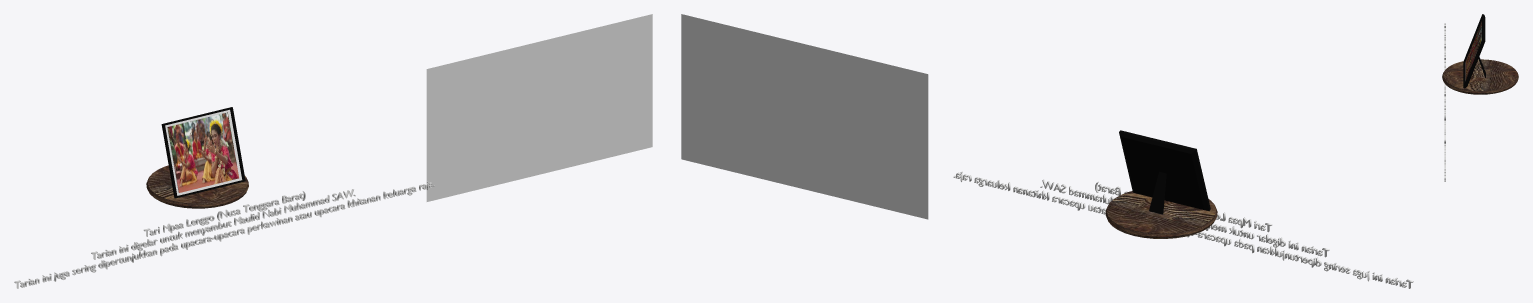
The model's file is 20. Tari Mpa Lenggo (NTB).fbx.
3 renders of one model, left to right at view 1: azimuth 30°, elevation 25°; view 2: azimuth 150°, elevation 25°; view 3: azimuth 270°, elevation 25°, orthographic. The views are drawn at different scales.
Parts seen in each view (by area): view 1: Plane, Cube.025, Text; view 2: Plane, Cube.025, Text; view 3: Cube.025, Text.
Part boxes in pixels (<box>): Plane: <box>426,14,652,201</box>; Cube.025: <box>146,107,248,208</box>; Text: <box>14,181,435,288</box>; Plane: <box>681,14,928,219</box>; Cube.025: <box>1105,130,1217,238</box>; Text: <box>953,171,1413,288</box>; Cube.025: <box>1442,14,1518,94</box>; Text: <box>1444,23,1445,181</box>.
Size of the model in its own units: 9252 by 1806 by 1260.
Materials: 6 (3 with a texture image).
